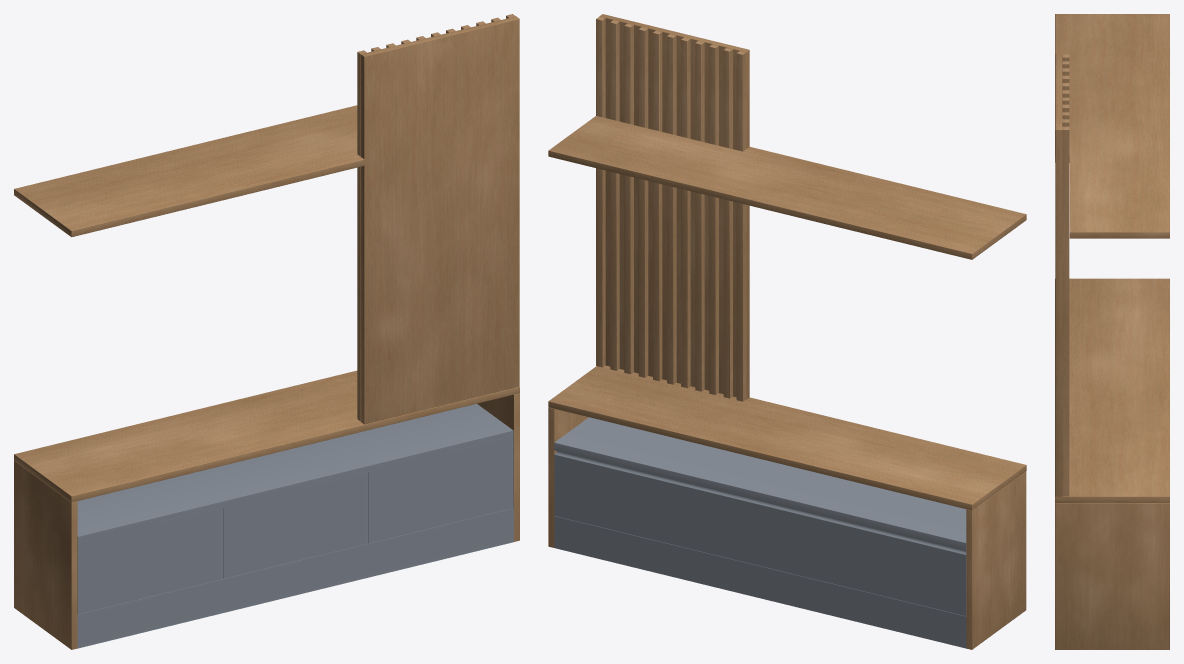
File: MOD_ART_ThreeRooms.fbx_Modern_Tv_Cabinet.fbx
The picture shows the model from 3 angles, left to right: view 1: azimuth 30°, elevation 25°; view 2: azimuth 150°, elevation 25°; view 3: azimuth 270°, elevation 25°; orthographic projection. The views are drawn at different scales.
Parts seen in each view (by area): view 1: respaldo, borde_arr, estante, superficie_cajon, base, cajon.001, cajon, cajon.002, borde_der, borde_izq, madera.010; view 2: borde_arr, estante, respaldo, superficie_cajon, base, cajon, cajon.001, cajon.002, borde_der, madera.003, madera.010, madera.001 (+9 smaller); view 3: estante, borde_arr, borde_izq, respaldo, madera.
Part boxes in pixels (x1=…): respaldo: x1=361, y1=16, x2=519, y2=424; borde_arr: x1=14, y1=370, x2=519, y2=502; estante: x1=14, y1=105, x2=364, y2=237; superficie_cajon: x1=77, y1=404, x2=513, y2=543; base: x1=77, y1=508, x2=513, y2=648; cajon.001: x1=368, y1=437, x2=513, y2=543; cajon: x1=223, y1=472, x2=368, y2=578; cajon.002: x1=77, y1=508, x2=222, y2=614; borde_der: x1=14, y1=461, x2=77, y2=649; borde_izq: x1=477, y1=393, x2=519, y2=541; madera.010: x1=357, y1=50, x2=366, y2=421; borde_arr: x1=548, y1=365, x2=1026, y2=510; estante: x1=548, y1=116, x2=1026, y2=259; respaldo: x1=599, y1=14, x2=749, y2=399; superficie_cajon: x1=554, y1=417, x2=966, y2=548; base: x1=554, y1=516, x2=966, y2=648; cajon: x1=691, y1=482, x2=831, y2=582; cajon.001: x1=554, y1=448, x2=693, y2=549; cajon.002: x1=829, y1=515, x2=966, y2=615; borde_der: x1=966, y1=471, x2=1026, y2=649; madera.003: x1=638, y1=27, x2=648, y2=377; madera.010: x1=736, y1=51, x2=746, y2=401; madera.001: x1=610, y1=20, x2=619, y2=370; estante: x1=1055, y1=14, x2=1169, y2=238; borde_arr: x1=1055, y1=278, x2=1169, y2=502; borde_izq: x1=1055, y1=503, x2=1169, y2=649; respaldo: x1=1055, y1=54, x2=1062, y2=496; madera: x1=1062, y1=126, x2=1069, y2=496.
Bounding box in the file's own units: 180 × 200 × 40.
9 materials, 9 textured.
